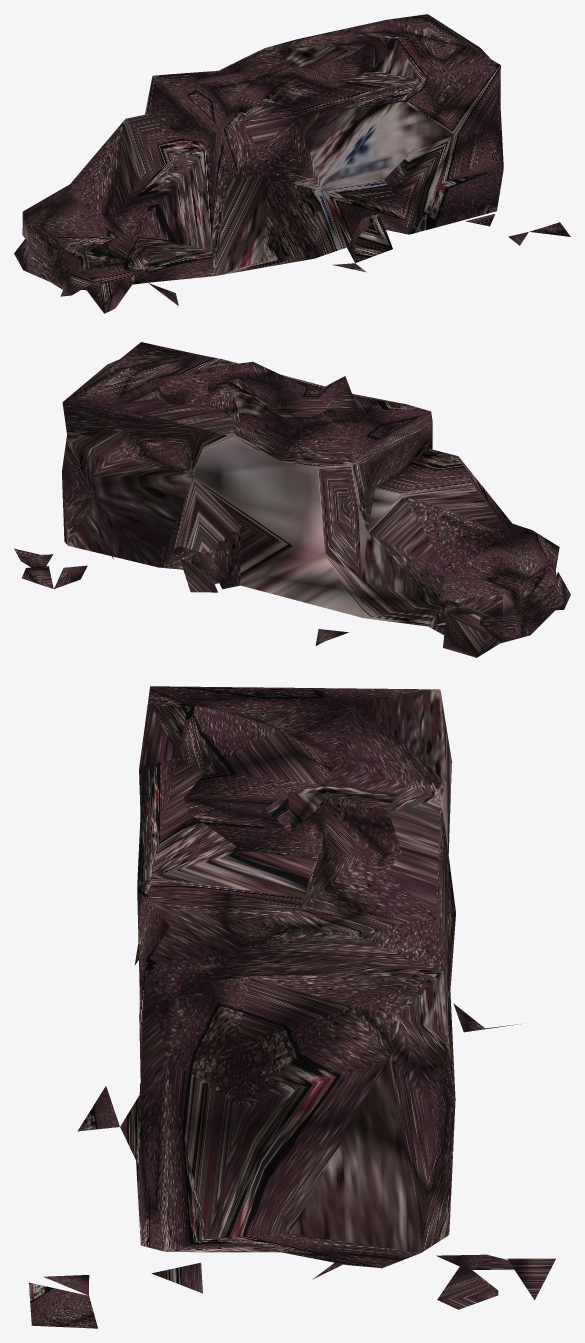
File: ambulance.glb
The picture shows the model from 3 angles, top to bottom: view 1: azimuth 30°, elevation 25°; view 2: azimuth 150°, elevation 25°; view 3: azimuth 270°, elevation 25°; orthographic projection. The views are drawn at different scales.
Visible parts, largest first — view 1: ambulance; view 2: ambulance; view 3: ambulance.
Boxes of the visible parts, bbox=[...] form: ambulance: bbox=[14, 14, 570, 313]; ambulance: bbox=[14, 342, 570, 657]; ambulance: bbox=[28, 686, 555, 1328].
Bounding box in the file's own units: 25.13 × 9.57 × 12.1.
Materials: 1 (1 with a texture image).
